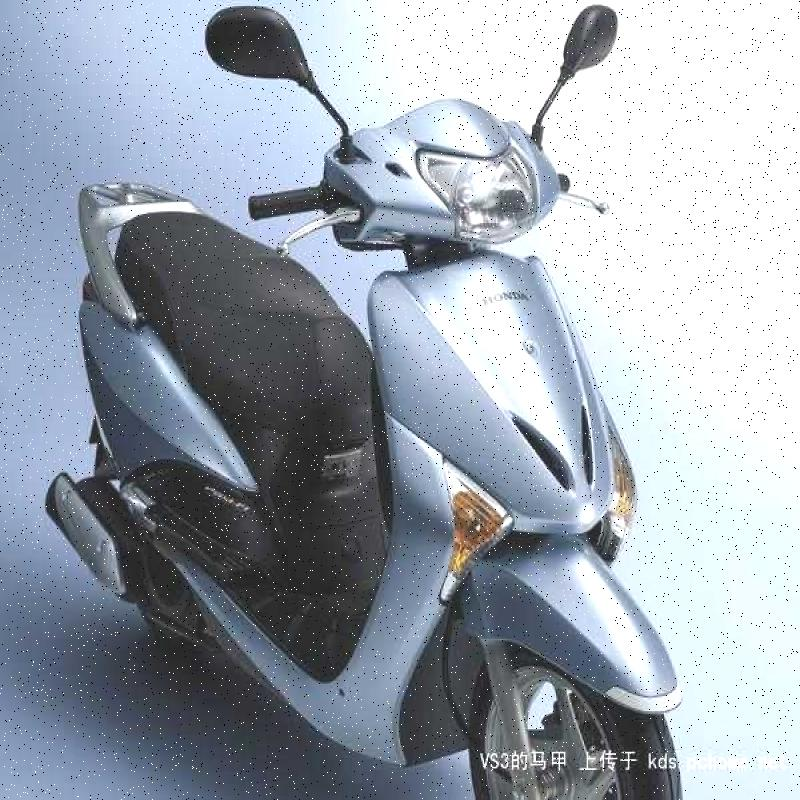bike: (35, 7, 744, 800)
